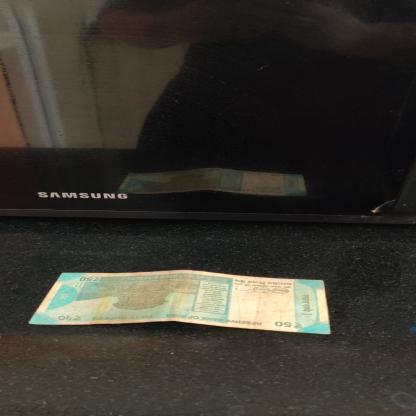New50Back: (26, 270, 339, 337)
